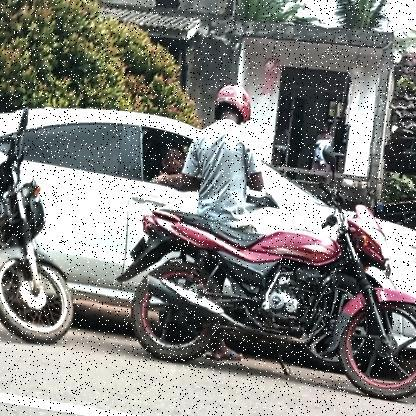motorcycle: (113, 146, 416, 408), (0, 99, 94, 361)
